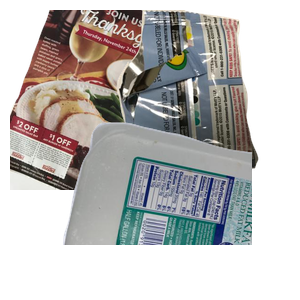glass: (74, 120, 244, 300)
paper: (10, 10, 224, 190)
plastic: (60, 120, 300, 300)
trash: (114, 10, 300, 180)
